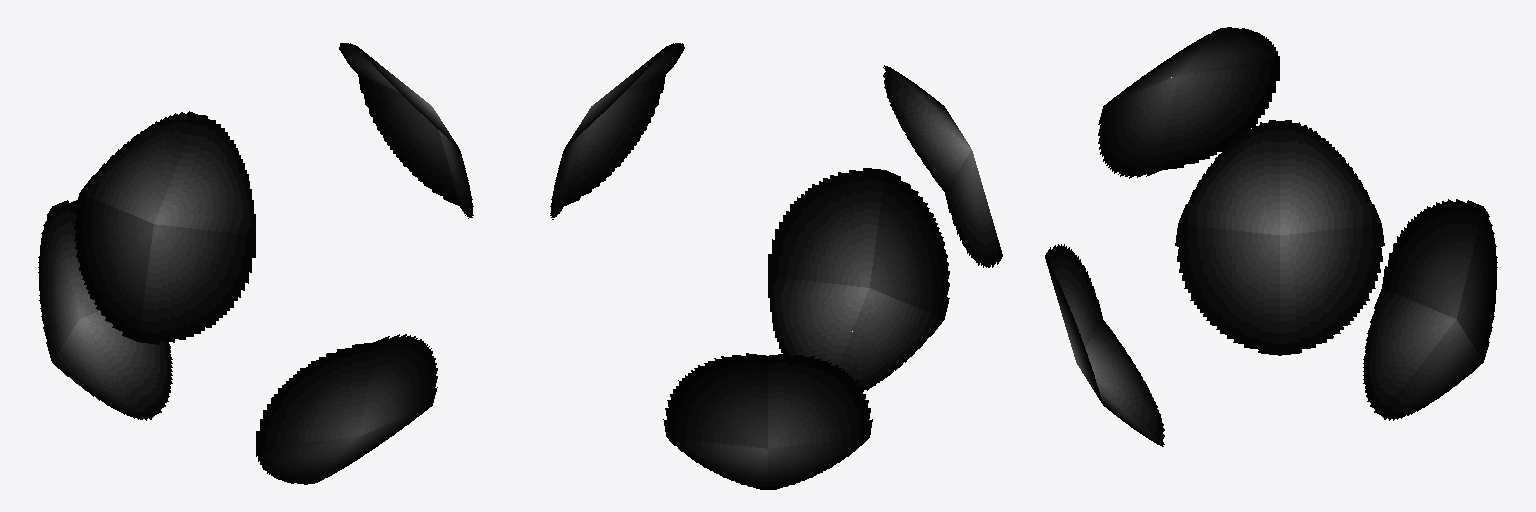
3 views of the same model, side by side, from view 1: azimuth 30°, elevation 25°; view 2: azimuth 150°, elevation 25°; view 3: azimuth 270°, elevation 25° (orthographic).
Visible parts, largest first — view 1: T1L3M003_25; view 2: T1L3M003_25; view 3: T1L3M003_25.
Part boxes in pixels (x1,y1,x2,y2): T1L3M003_25: (38, 43, 473, 484); T1L3M003_25: (550, 43, 1002, 489); T1L3M003_25: (1045, 27, 1497, 446).
Bounding box in the file's own units: 0.7998 × 0.6924 × 0.7998.
1 materials, 1 textured.